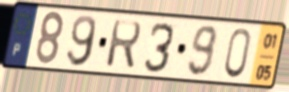0: (224, 26, 253, 80)
3: (143, 20, 177, 75)
8: (35, 10, 64, 67)
9: (185, 24, 220, 79), (65, 14, 99, 69)
R: (104, 18, 143, 72)
